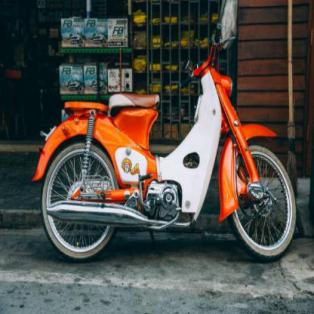Motocicleta: (31, 18, 300, 266)
